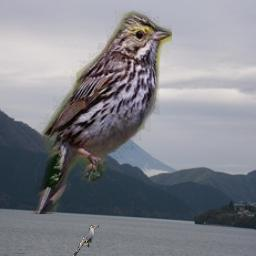Cuckoo: (73, 225, 99, 256)
Sparrow: (30, 10, 172, 214)
